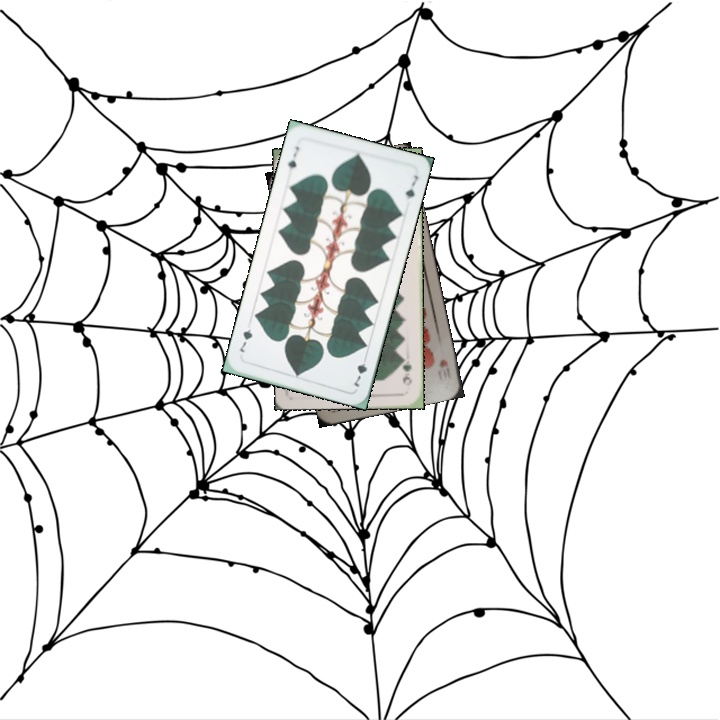G7: (350, 351, 370, 389), (284, 142, 301, 172)
G9: (399, 353, 414, 388)
H10: (435, 355, 453, 381)
